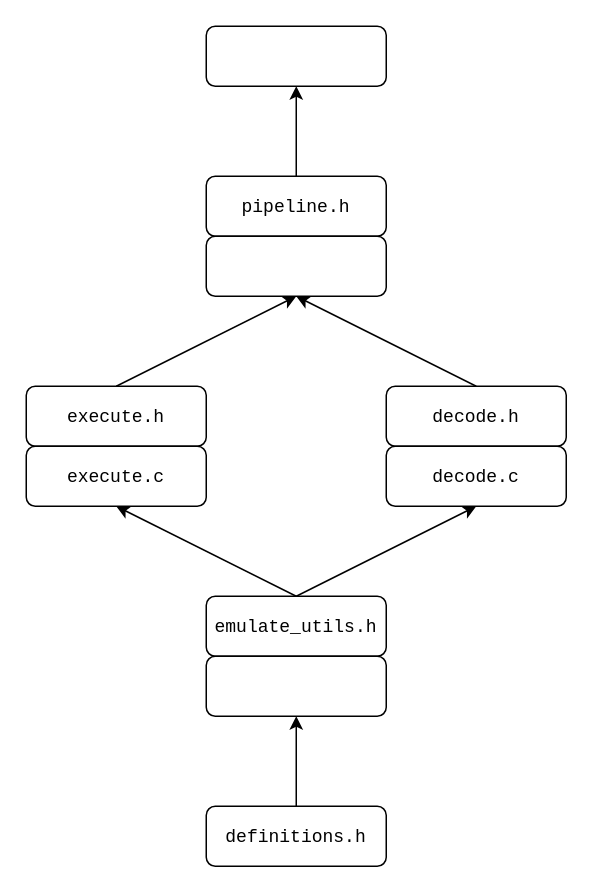
Image size: 593x893. Some labels were removed from this diagram. Here are the shapes that lost their labels. From the top down, the centre of each, then its label:
At (x=295, y=55): "emulate.c".
At (x=295, y=265): "pipeline.c".
At (x=295, y=685): "emulate_utils.c".
